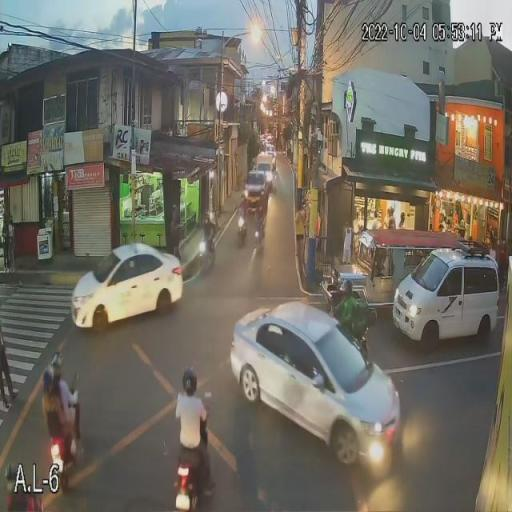helmet: (182, 366, 198, 390), (40, 365, 56, 387), (338, 278, 354, 296), (48, 352, 62, 369)
motorcycle: (172, 445, 213, 512), (48, 415, 82, 494), (346, 321, 376, 356), (196, 238, 215, 276), (235, 216, 249, 250), (252, 226, 262, 254)
rider: (174, 366, 213, 494), (42, 352, 80, 446), (38, 362, 63, 458), (337, 283, 374, 343), (198, 221, 214, 254), (250, 209, 263, 235), (237, 204, 248, 228)
